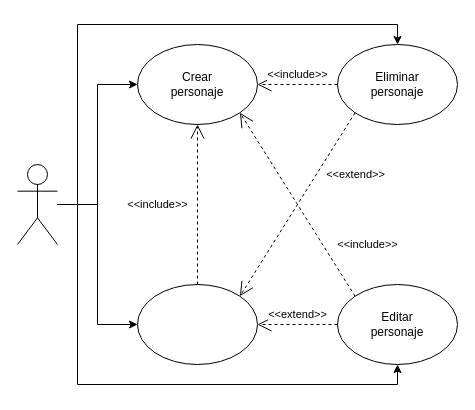
Some shapes in this 475 by 410 pixel diagram are drawn without their labels. The shapes that lost their labels are listed below. From the top down, each one's box as (x1, y1, x2, y2) in pixels, then its label:
(16, 164, 58, 244): Usuario
(136, 284, 258, 364): Visualizar personaje
